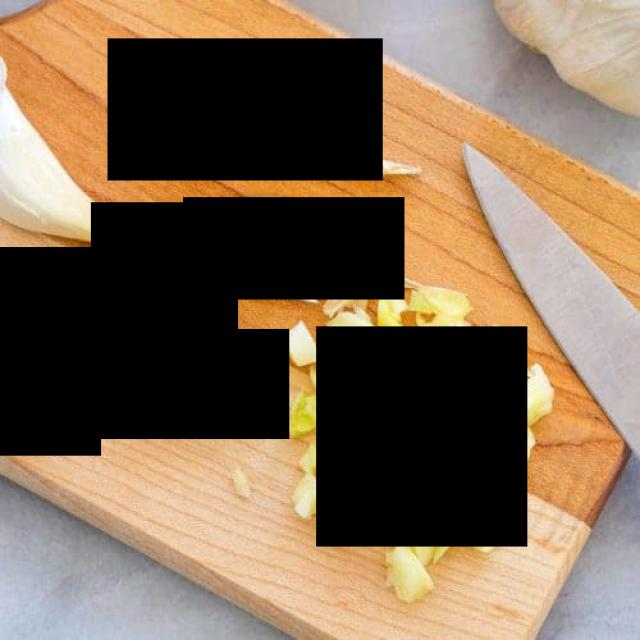Garlic: (316, 328, 528, 547), (108, 40, 383, 182), (183, 198, 405, 300), (92, 204, 239, 356), (95, 330, 290, 440), (0, 247, 101, 456)
